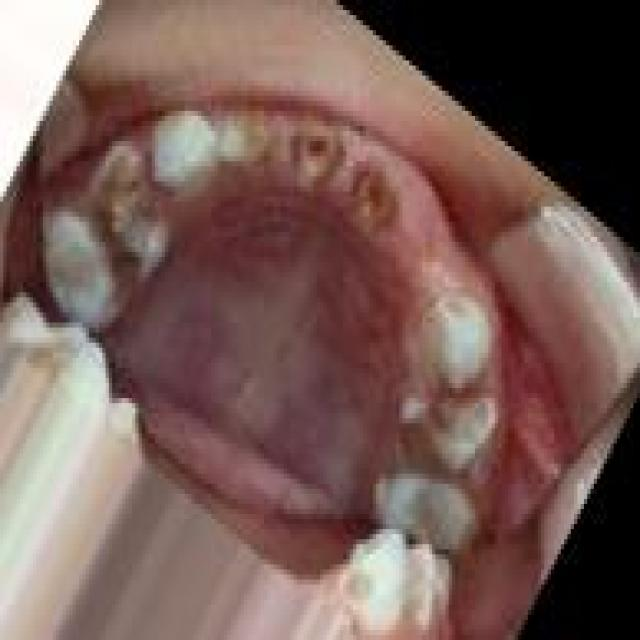caries: (90, 142, 166, 290), (341, 152, 402, 245), (287, 115, 340, 201), (216, 98, 272, 171)
